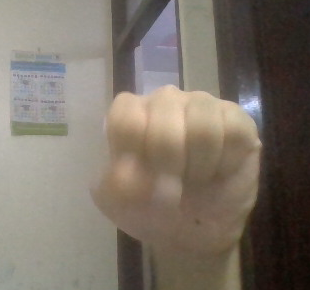click: (82, 81, 285, 288)
